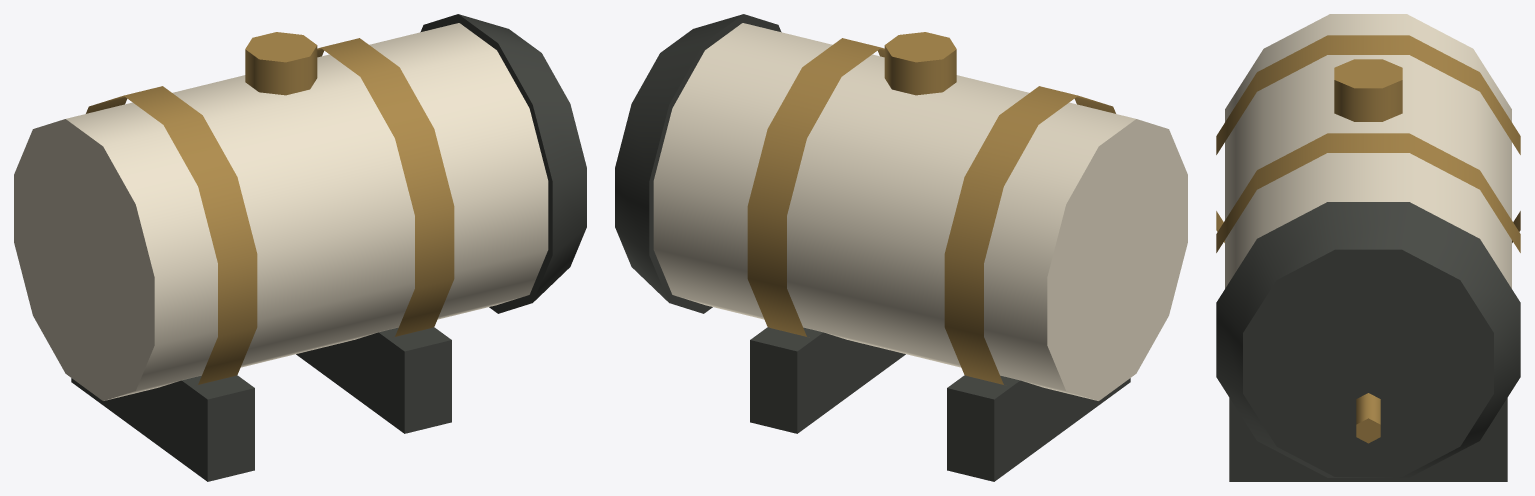
The model's file is tank.glb.
The picture shows the model from 3 angles, left to right: view 1: azimuth 30°, elevation 25°; view 2: azimuth 150°, elevation 25°; view 3: azimuth 270°, elevation 25°; orthographic projection.
Visible parts, largest first — view 1: tank; view 2: tank; view 3: tank.
Part boxes in pixels (x1=…): tank: x1=14, y1=14, x2=586, y2=481; tank: x1=615, y1=14, x2=1187, y2=481; tank: x1=1216, y1=14, x2=1520, y2=481.
Size of the model in its own units: 1.25 by 0.85 by 0.6568.
